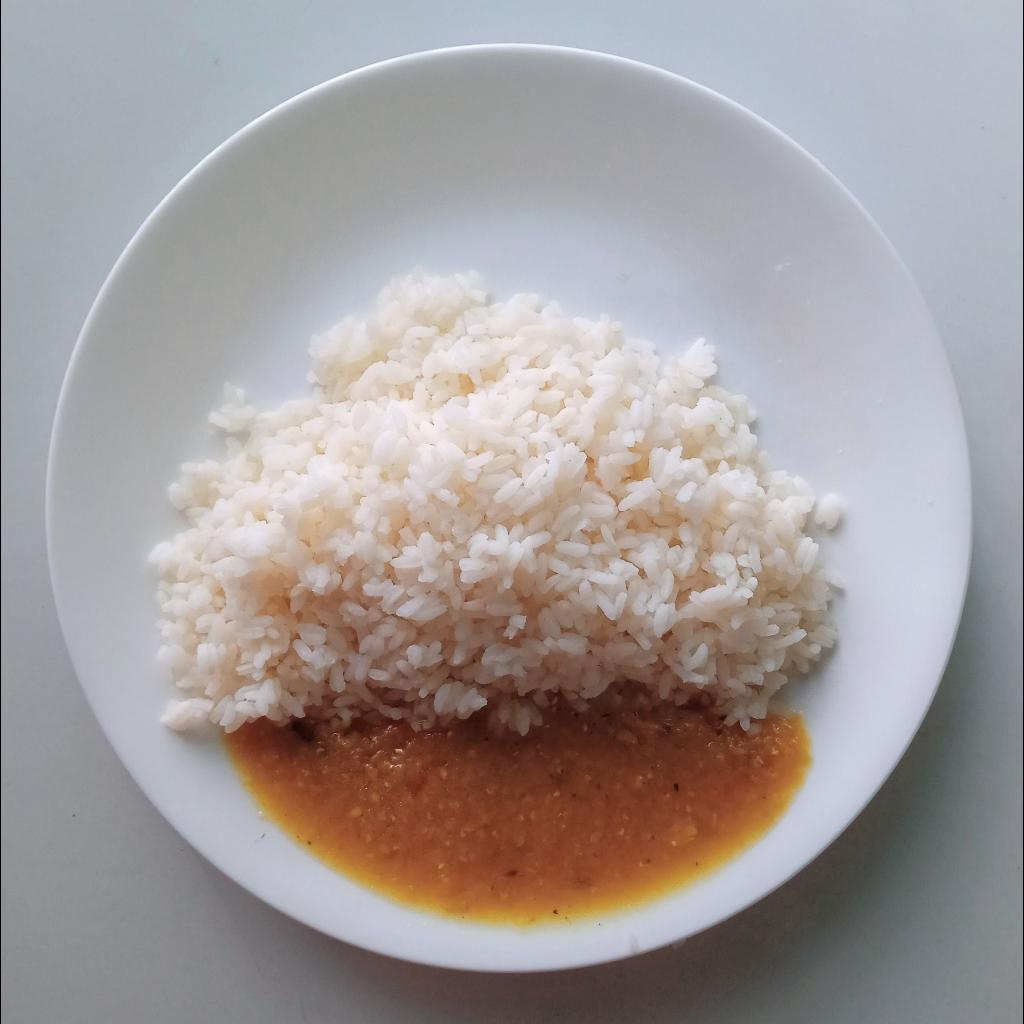daal: (231, 692, 813, 920)
rice: (144, 273, 849, 734)
